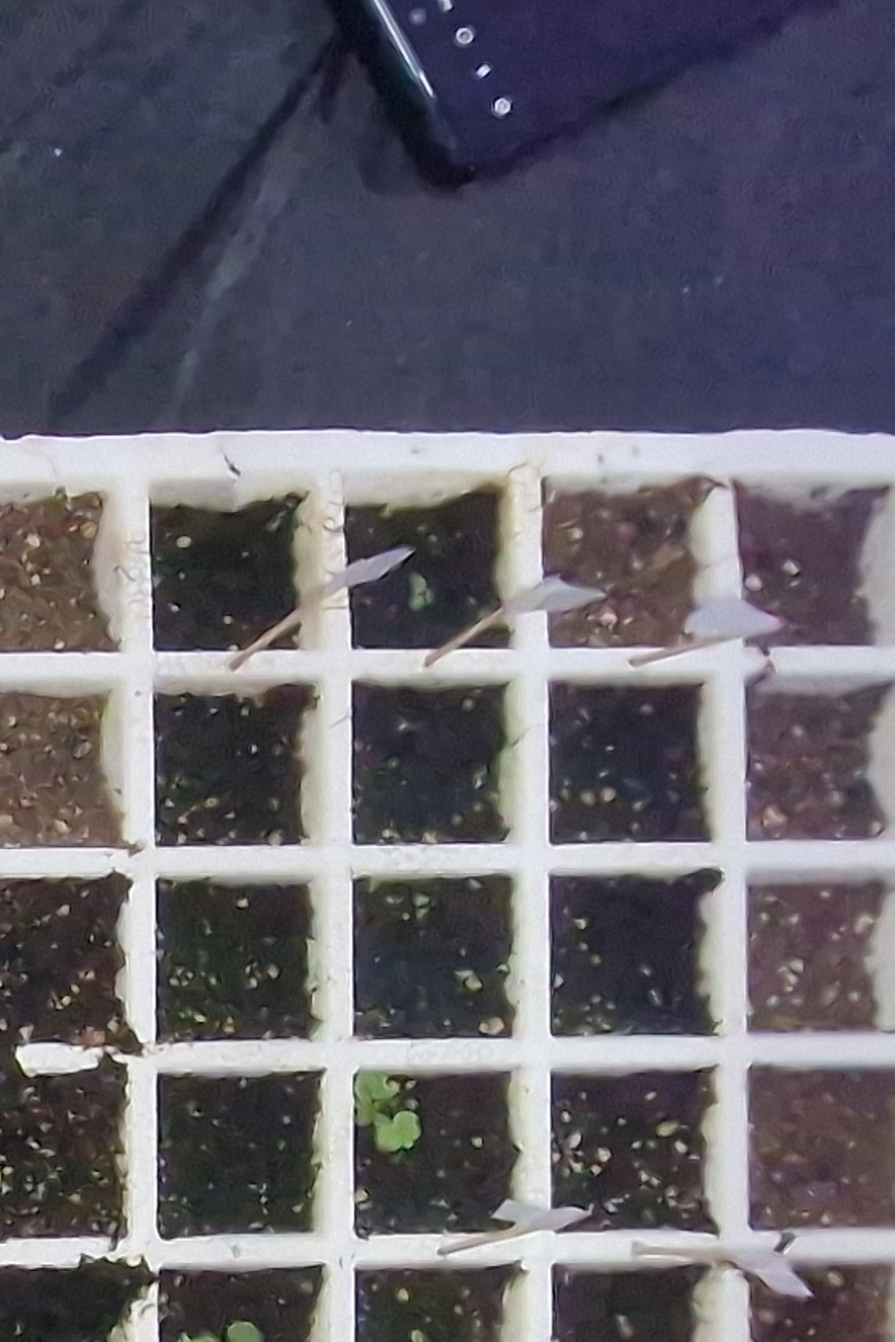Folha: (355, 1069, 397, 1125), (374, 1111, 422, 1152), (228, 1323, 260, 1342), (409, 574, 426, 592), (192, 1335, 224, 1342), (410, 595, 423, 609)
Germinacao: (356, 1070, 420, 1151), (192, 1321, 261, 1342), (411, 574, 426, 609)
